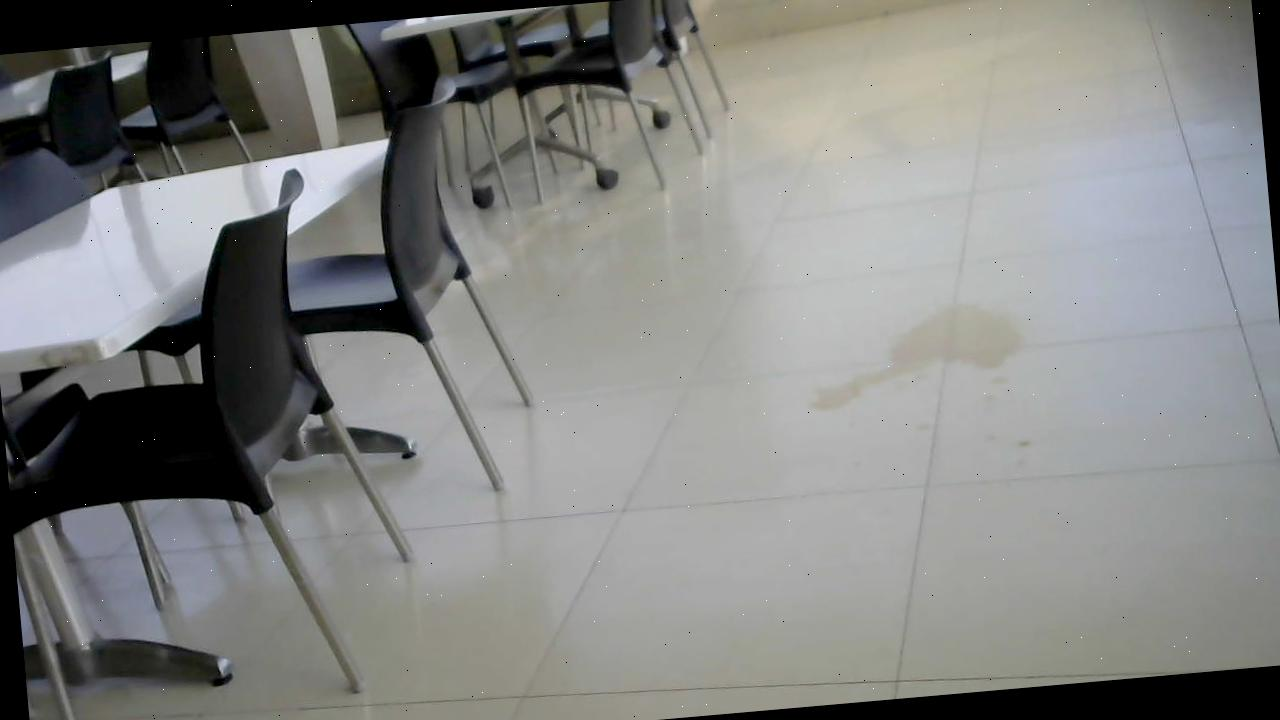dirty_floor: (794, 275, 1068, 486)
